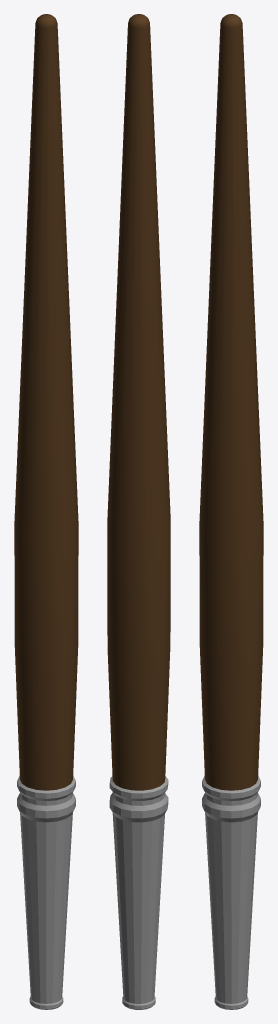
The model's file is paintbrush_grip.fbx.
The picture shows the model from 3 angles, left to right: view 1: azimuth 90°, elevation 25°; view 2: azimuth 210°, elevation 25°; view 3: azimuth 270°, elevation 25°; orthographic projection.
Parts seen in each view (by area): view 1: paintbrush_grip; view 2: paintbrush_grip; view 3: paintbrush_grip.
Boxes of the visible parts, x1,y1,x2,y2 form: paintbrush_grip: (14,14,78,1009); paintbrush_grip: (107,14,170,1009); paintbrush_grip: (199,14,263,1009).
Bounding box in the file's own units: 0.3781 × 6.42 × 0.3781.
